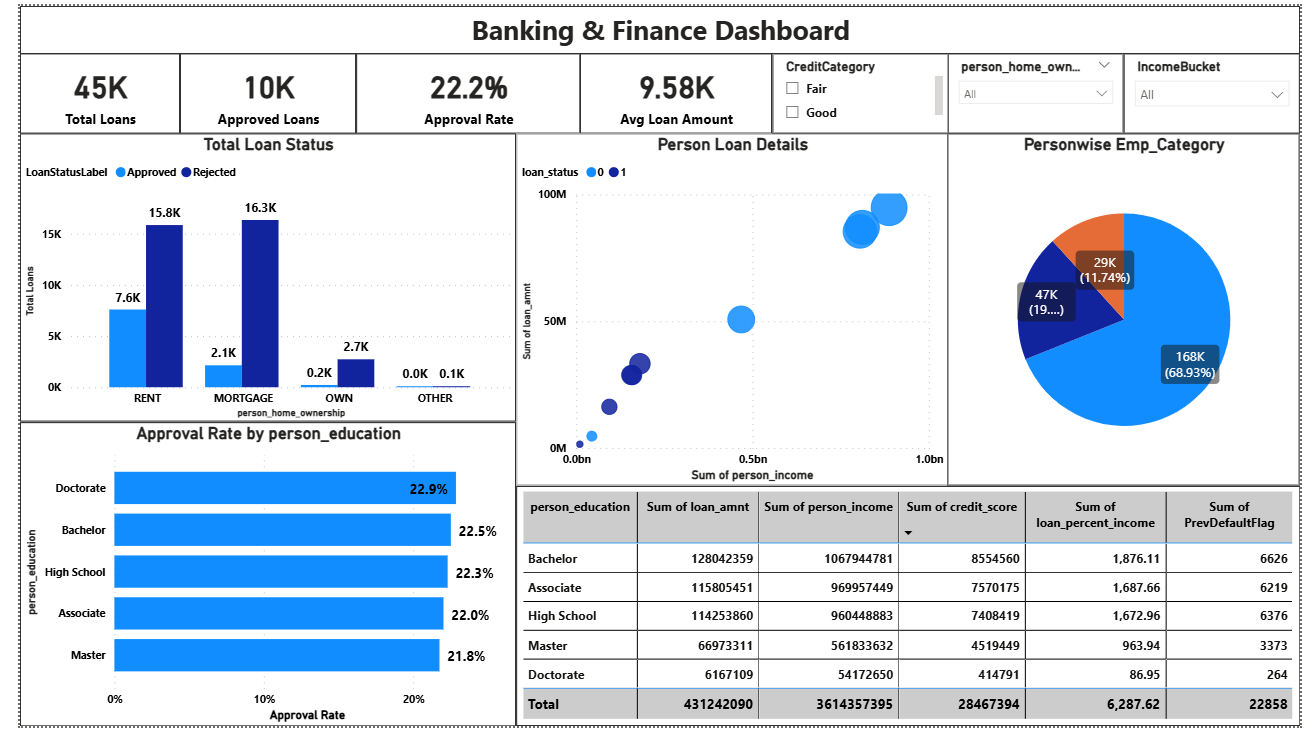

The page's visual inventory and layout, read from the dashboard file:
{"tool":"powerbi","page":{"name":"Page 1","canvas":[1280,720],"ordinal":0},"visuals":[{"type":"card","fields":{"Values":["LoanData.Total Loans"]},"box":[0,48,160,80],"z":0},{"type":"card","fields":{"Values":["LoanData.Approved Loans"]},"box":[160,48,176,80],"z":1000},{"type":"card","fields":{"Values":["LoanData.Approval Rate"]},"box":[336,48,224,80],"z":2000},{"type":"card","fields":{"Values":["LoanData.Avg Loan Amount"]},"box":[560,48,192,80],"z":3000},{"type":"clusteredBarChart","fields":{"Category":["LoanData.person_education"],"Y":["LoanData.Approval Rate"]},"box":[0,416,496,304],"z":4000},{"type":"clusteredColumnChart","title":"Total Loan Status","fields":{"Category":["LoanData.person_home_ownership"],"Series":["LoanData.LoanStatusLabel"],"Y":["LoanData.Total Loans"]},"box":[0,128,496,288],"z":5000},{"type":"scatterChart","title":"Person Loan Details","fields":{"X":["LoanData.person_income"],"Y":["LoanData.loan_amnt"],"Series":["LoanData.loan_status"],"Size":["LoanData.credit_score"],"Category":["LoanData.person_education"]},"box":[496,128,432,352],"z":6000},{"type":"pieChart","title":"Personwise Emp_Category","fields":{"Y":["LoanData.person_emp_exp"],"Category":["LoanData.CreditCategory"]},"box":[928,128,352,352],"z":7000},{"type":"tableEx","fields":{"Values":["LoanData.person_education","LoanData.loan_amnt","LoanData.person_income","LoanData.credit_score","LoanData.loan_percent_income","LoanData.PrevDefaultFlag"]},"box":[496,480,784,240],"z":8000},{"type":"slicer","fields":{"Values":["LoanData.person_home_ownership"]},"box":[928,48,176,80],"z":11000},{"type":"slicer","fields":{"Values":["LoanData.CreditCategory"]},"box":[752,48,176,80],"z":12000},{"type":"slicer","fields":{"Values":["LoanData.IncomeBucket"]},"box":[1104,48,176,80],"z":13000},{"type":"textbox","box":[0,0,1280,48],"z":15000}]}

Visuals, with their boxes in screenshot pixels (x1, y1, x2, y2), scaled from the page's 1280x720 canvas onto the 1315x733 screenshot:
card - LoanData.Total Loans: <region>0, 49, 164, 130</region>
card - LoanData.Approved Loans: <region>164, 49, 345, 130</region>
card - LoanData.Approval Rate: <region>345, 49, 575, 130</region>
card - LoanData.Avg Loan Amount: <region>575, 49, 773, 130</region>
clusteredBarChart - LoanData.person_education x LoanData.Approval Rate: <region>0, 424, 510, 732</region>
"Total Loan Status" clusteredColumnChart: <region>0, 130, 510, 424</region>
"Person Loan Details" scatterChart: <region>510, 130, 953, 489</region>
"Personwise Emp_Category" pieChart: <region>953, 130, 1314, 489</region>
tableEx - LoanData.person_education x LoanData.loan_amnt: <region>510, 489, 1314, 732</region>
slicer - LoanData.person_home_ownership: <region>953, 49, 1134, 130</region>
slicer - LoanData.CreditCategory: <region>773, 49, 953, 130</region>
slicer - LoanData.IncomeBucket: <region>1134, 49, 1314, 130</region>
textbox: <region>0, 0, 1314, 49</region>
